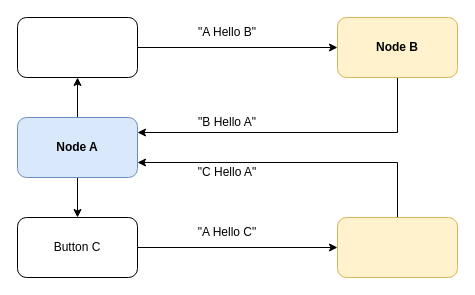
The diagram is 475 pixels wide and 295 high, and some of its shapes have lost their labels. The box of each missing label's shape, as (x1, y1, x2, y2) in pixels:
Button B: (16, 16, 138, 78)
Node C: (336, 216, 458, 278)
